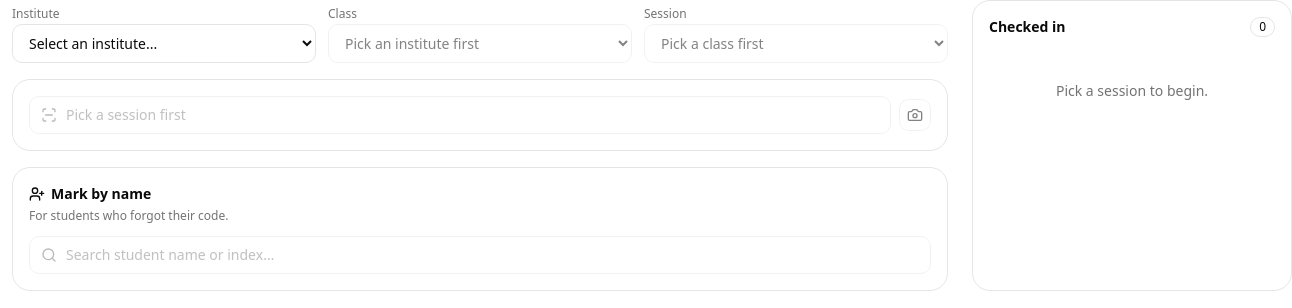
Test: StaffScanner — session gating › disables the scan field until a session is picked, then enables it
Check: the field named "Scan code" is disabled, box [29,96,891,134]
Check: the dropdown named "Select class" is disabled, box [328,24,632,63]
Select "Nugegoda Centre · Nugegoda" in the dropdown named "Select institute" at (164, 44), box [12,24,316,63]
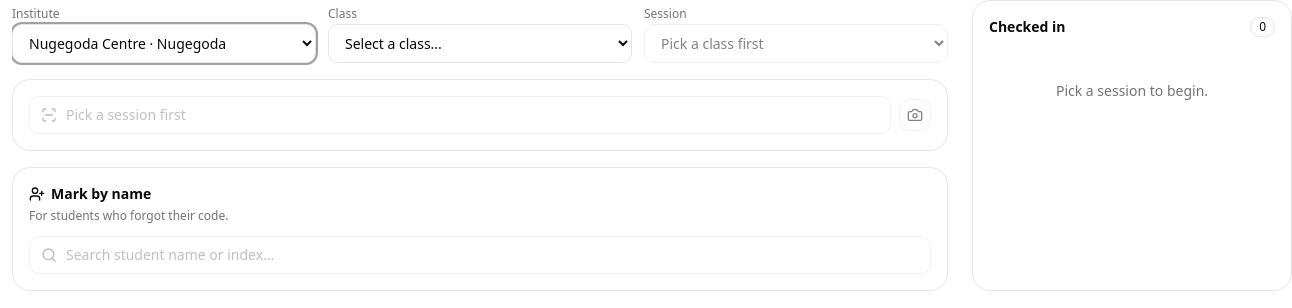
Select "Physics · 2026" in the dropdown named "Select class" at (480, 44), box [328,24,632,63]
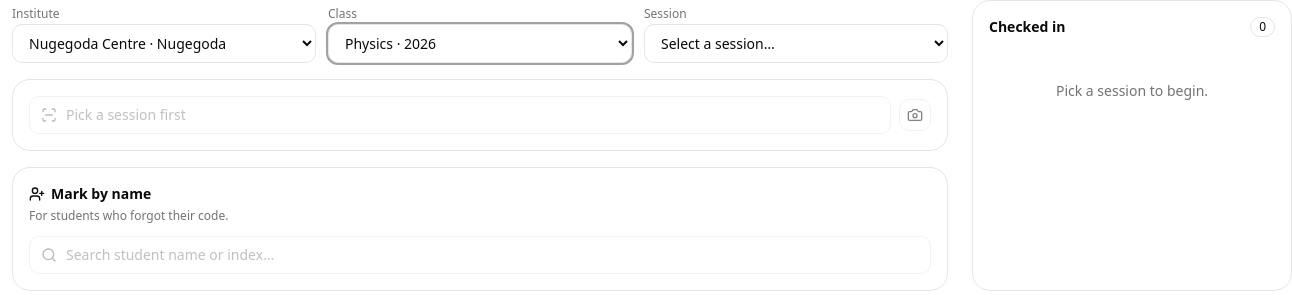
Select "Nov 21, 2026 · Today · Lecture 1" in the dropdown named "Select session" at (796, 44), box [644,24,948,63]
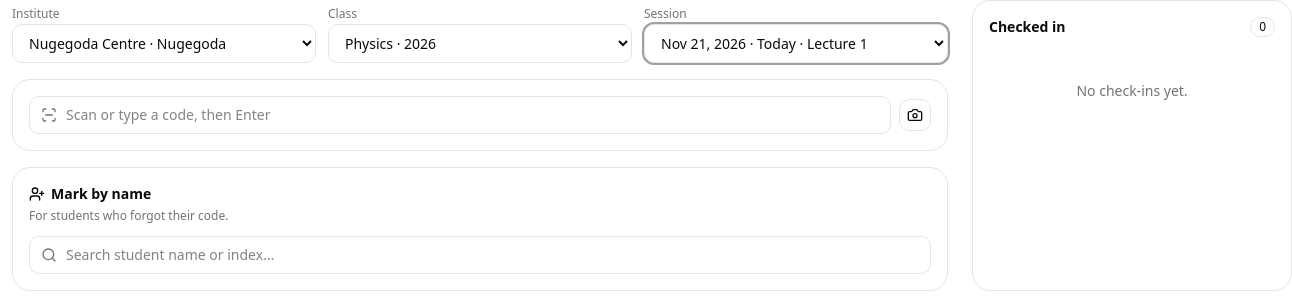
Check: the field named "Scan code" is enabled, box [29,96,891,134]
